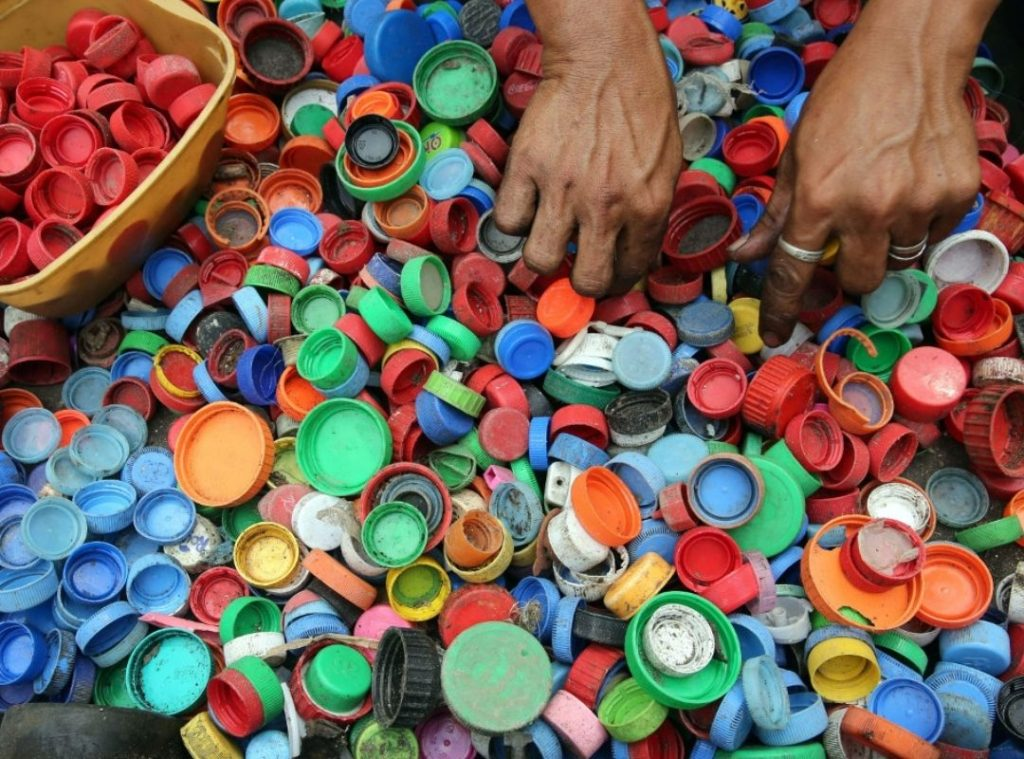PlasticCap: (442, 627, 546, 725), (296, 405, 389, 488), (571, 466, 642, 543), (690, 453, 757, 523), (893, 345, 965, 408), (649, 604, 714, 672), (692, 358, 743, 413)
